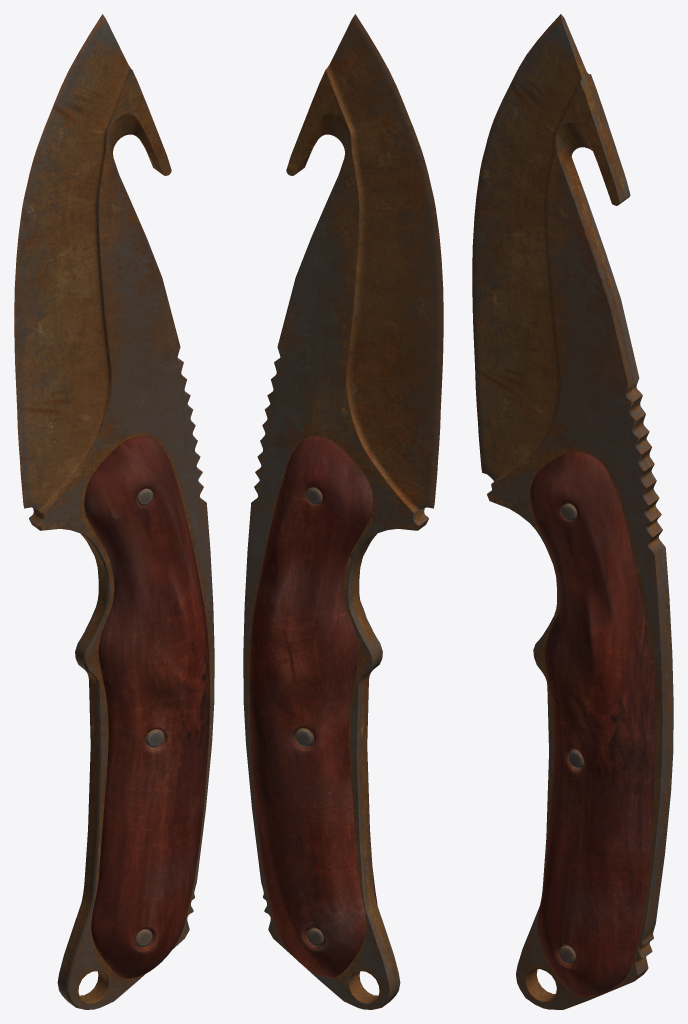
3 renders of one model, left to right at view 1: azimuth 30°, elevation 25°; view 2: azimuth 150°, elevation 25°; view 3: azimuth 330°, elevation 25°, orthographic.
Visible parts, largest first — view 1: weapon; view 2: weapon; view 3: weapon.
Part boxes in pixels (x1,y1,x2,y2): weapon: (14,14,214,1009); weapon: (243,14,443,1009); weapon: (472,14,673,1009).
Bounding box in the file's own units: 0.0769 × 0.3712 × 0.0346.
1 material, 1 textured.
